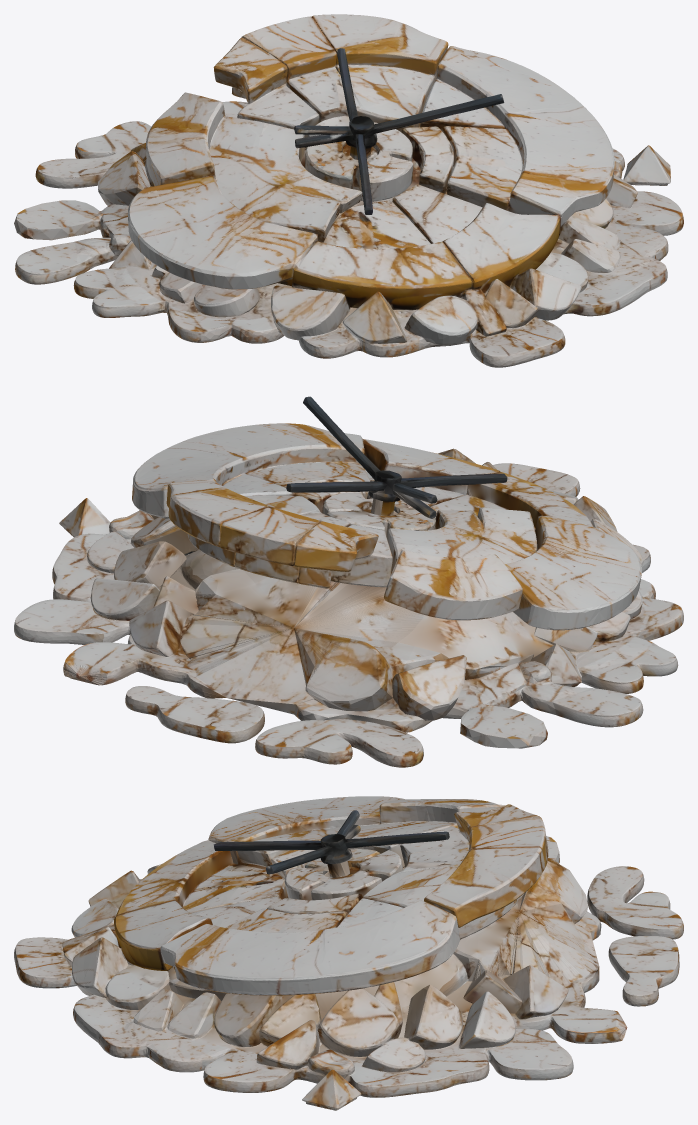
3 views of the same model, one above another, from view 1: azimuth 30°, elevation 25°; view 2: azimuth 150°, elevation 25°; view 3: azimuth 270°, elevation 25° (orthographic). The views are drawn at different scales.
Parts seen in each view (by area): view 1: texture_pbr_v128; view 2: texture_pbr_v128; view 3: texture_pbr_v128.
Boxes of the visible parts, x1,y1,x2,y2 form: texture_pbr_v128: [14, 14, 683, 367]; texture_pbr_v128: [14, 396, 683, 767]; texture_pbr_v128: [14, 796, 683, 1110].
Size of the model in its own units: 1.12 by 0.2676 by 1.09.
1 material, 1 textured.
